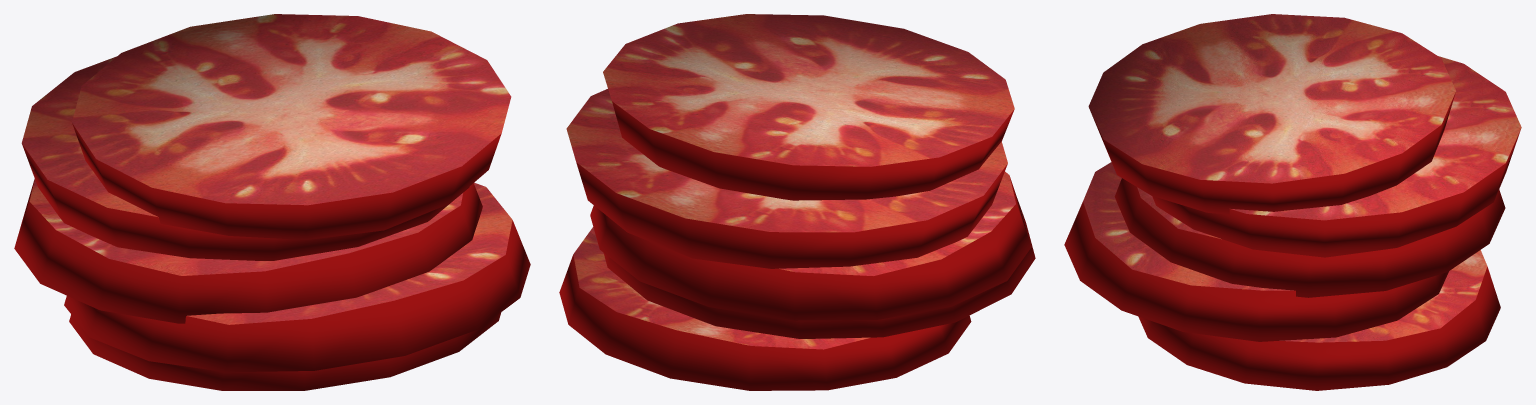
File: TOMATE_CORTADO.fbx
The picture shows the model from 3 angles, left to right: view 1: azimuth 30°, elevation 25°; view 2: azimuth 150°, elevation 25°; view 3: azimuth 270°, elevation 25°; orthographic projection. The views are drawn at different scales.
Parts seen in each view (by area): view 1: TOMATE_CORTADO_PRP; view 2: TOMATE_CORTADO_PRP; view 3: TOMATE_CORTADO_PRP.
Boxes of the visible parts, x1,y1,x2,y2 form: TOMATE_CORTADO_PRP: [14, 14, 530, 390]; TOMATE_CORTADO_PRP: [559, 14, 1035, 390]; TOMATE_CORTADO_PRP: [1064, 14, 1521, 390].
Bounding box in the file's own units: 10.36 × 5.06 × 10.1.
Materials: 2 (1 with a texture image).
